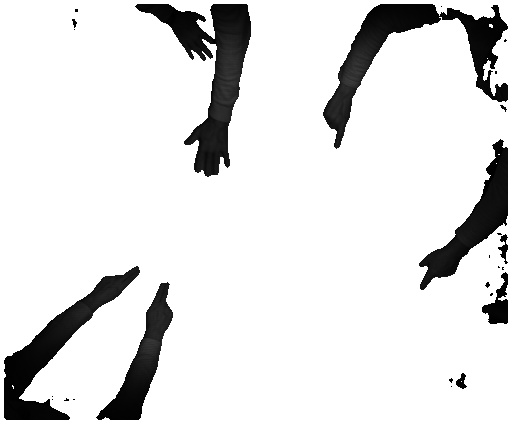hand: (168, 12, 220, 64), (184, 126, 231, 183), (93, 264, 143, 312), (416, 247, 461, 295), (320, 98, 355, 151), (146, 280, 175, 337)
